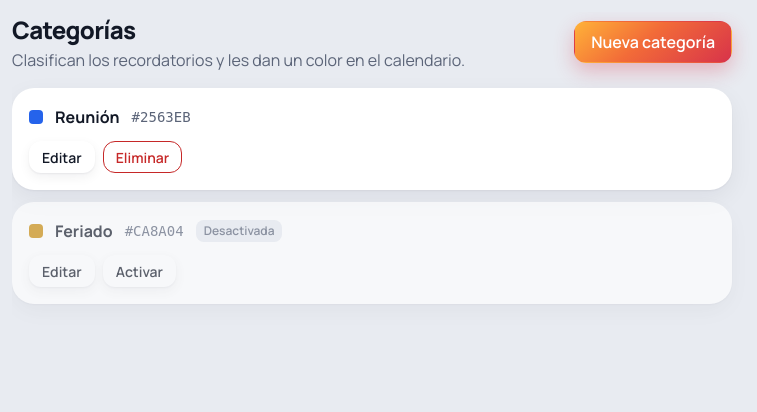
CategoriesPage › eliminar una categoría en uso explica que se desactivó
Click the button "Eliminar" at (142, 157), box 103,141 -> 182,173
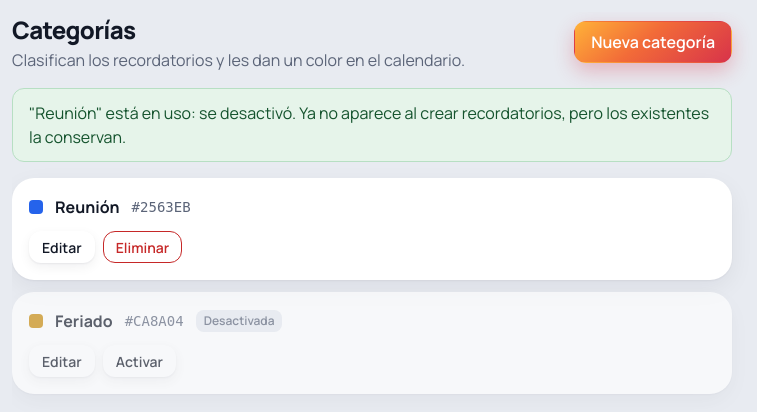
Now the text "está en uso: se desactivó" is shown, box 29,102 -> 709,148
